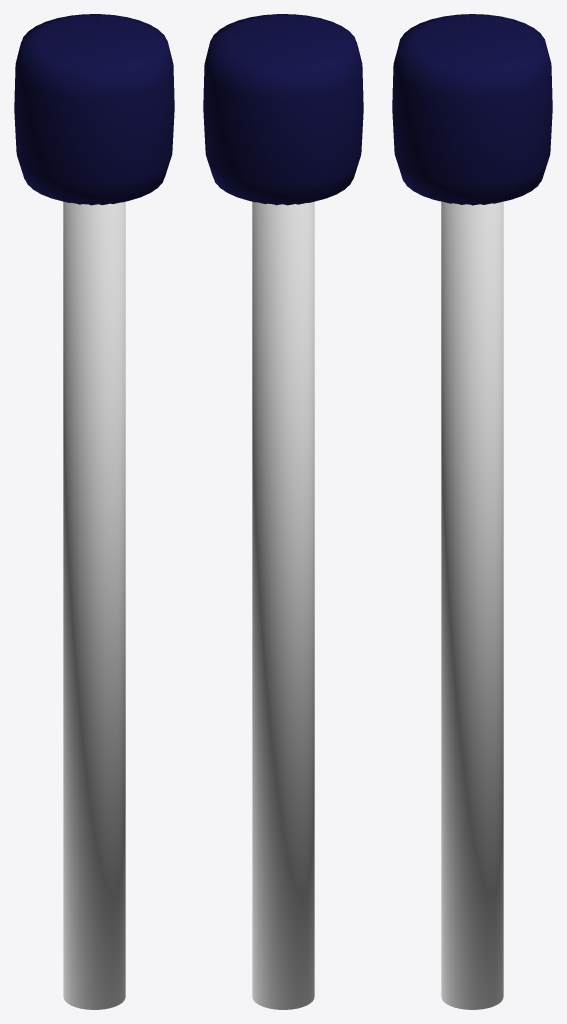
Rendered from Baqueta_Surdo_Primeira.fbx.
3 renders of one model, left to right at view 1: azimuth 30°, elevation 25°; view 2: azimuth 150°, elevation 25°; view 3: azimuth 270°, elevation 25°, orthographic.
Visible parts, largest first — view 1: Cylinder.002, Cylinder.003; view 2: Cylinder.002, Cylinder.003; view 3: Cylinder.002, Cylinder.003.
Boxes of the visible parts, x1,y1,x2,y2 form: Cylinder.002: (63, 201, 125, 1009); Cylinder.003: (14, 14, 174, 205); Cylinder.002: (252, 201, 314, 1009); Cylinder.003: (203, 14, 363, 205); Cylinder.002: (441, 201, 503, 1009); Cylinder.003: (392, 14, 552, 205).
Size of the model in its own units: 0.0381 by 0.251 by 0.0381.
